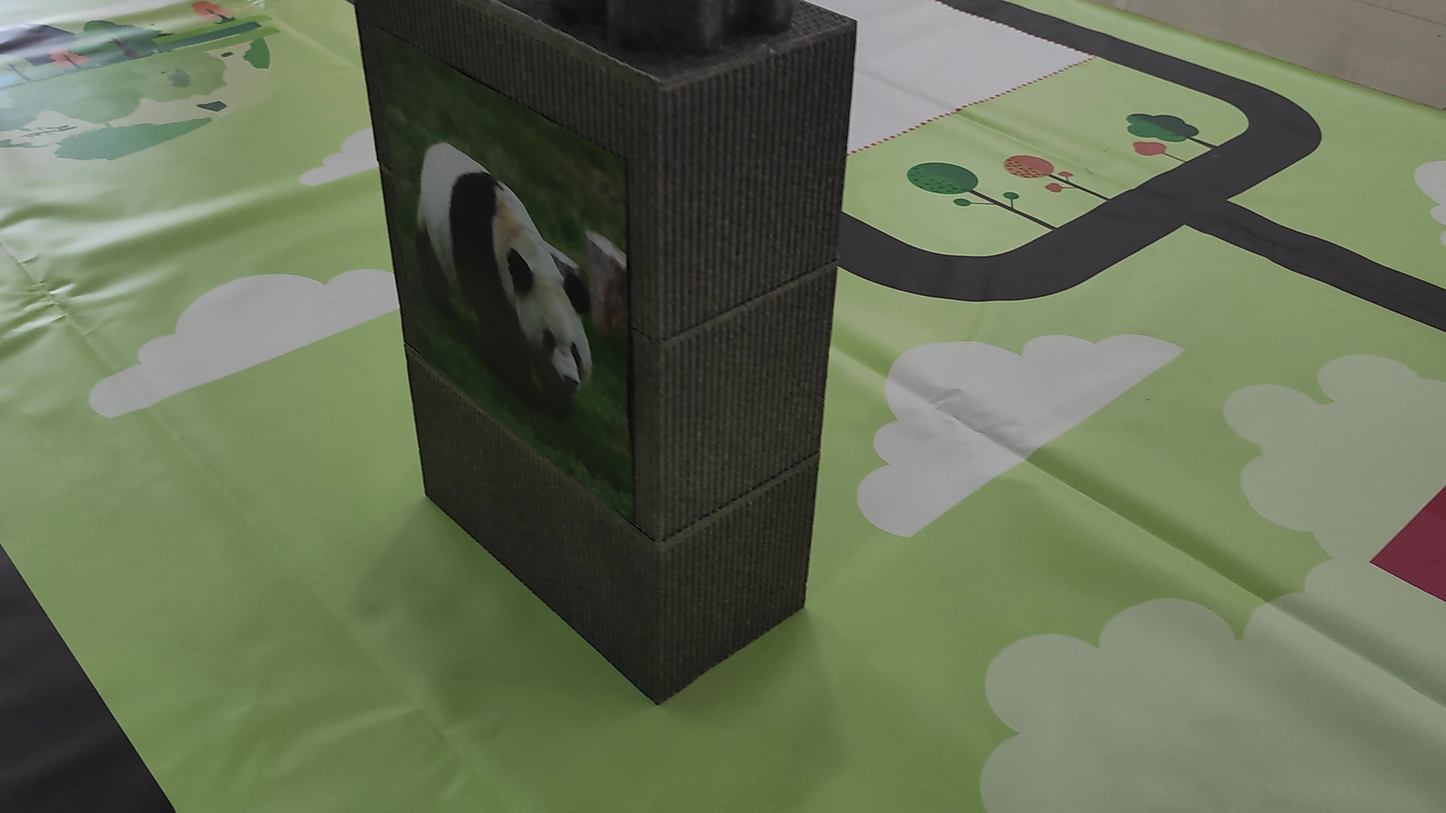panda: (403, 126, 628, 442)
